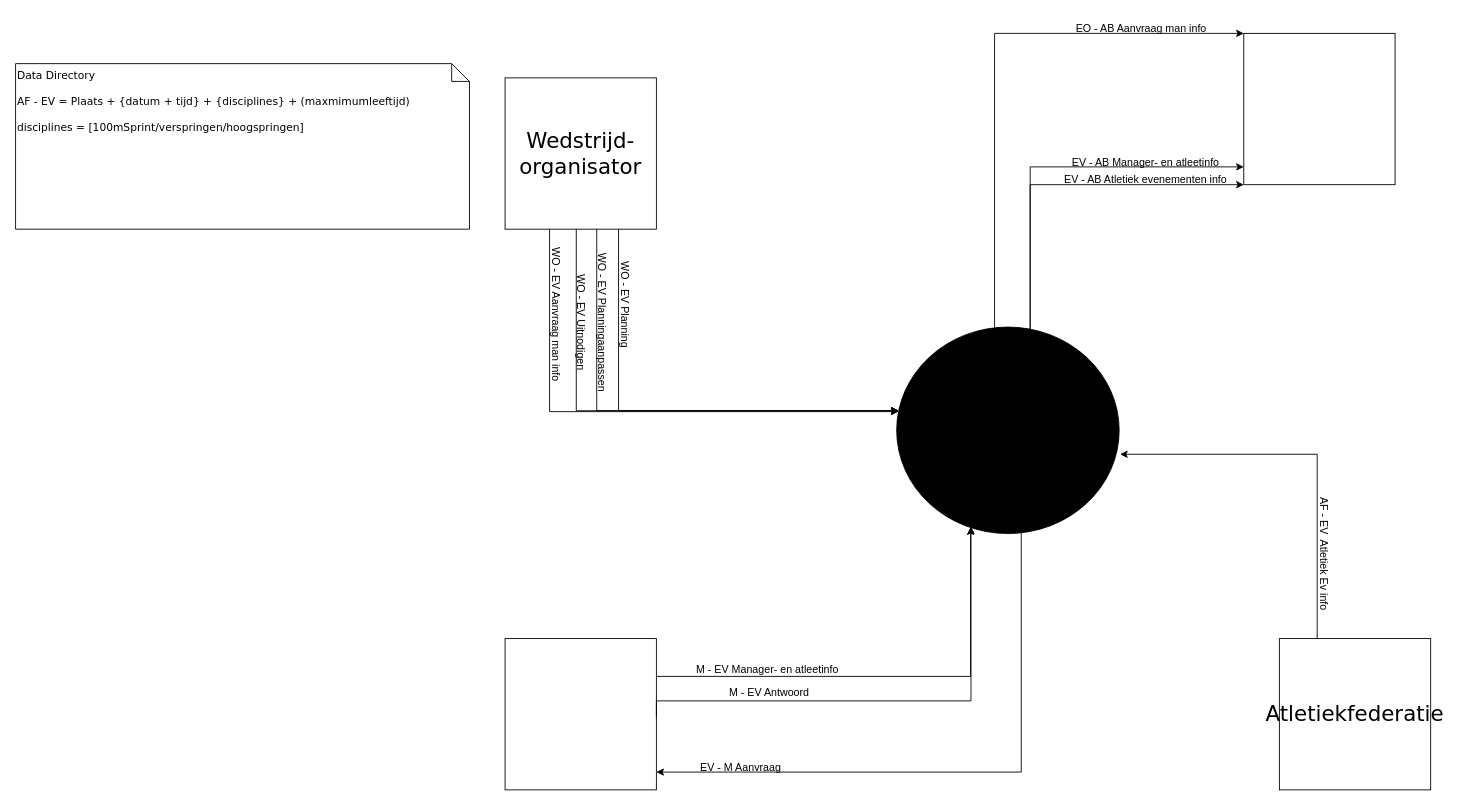
This 1460x805 diagram has some shape labels left out. Here are the shapes that lost their labels. From the top down, the centre of each, then its label:
At (1319,108): "Administratie bediende".
At (580,714): "Manager".
